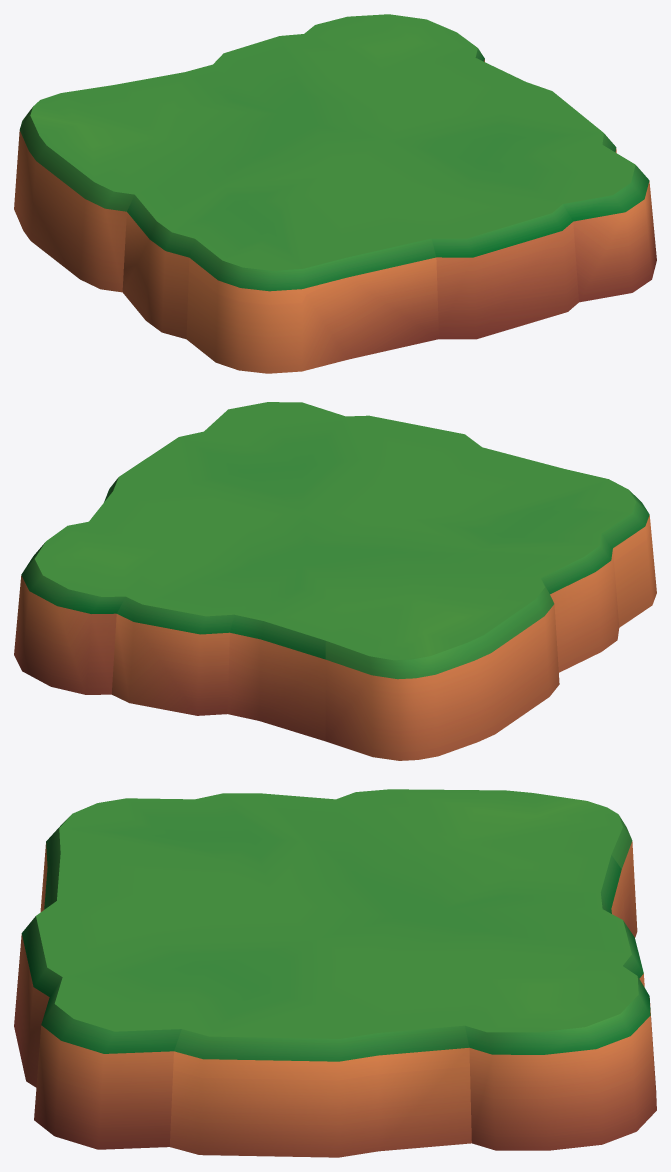
File: Battleground 01.FBX
3 renders of one model, top to bottom at view 1: azimuth 30°, elevation 25°; view 2: azimuth 150°, elevation 25°; view 3: azimuth 270°, elevation 25°, orthographic. The views are drawn at different scales.
Parts seen in each view (by area): view 1: Battleground 01; view 2: Battleground 01; view 3: Battleground 01.
Part boxes in pixels (x1=…): Battleground 01: x1=14, y1=14, x2=656, y2=373; Battleground 01: x1=14, y1=402, x2=656, y2=760; Battleground 01: x1=14, y1=789, x2=656, y2=1157.
Size of the model in its own units: 2183 by 420 by 2226.
1 material, 1 textured.
